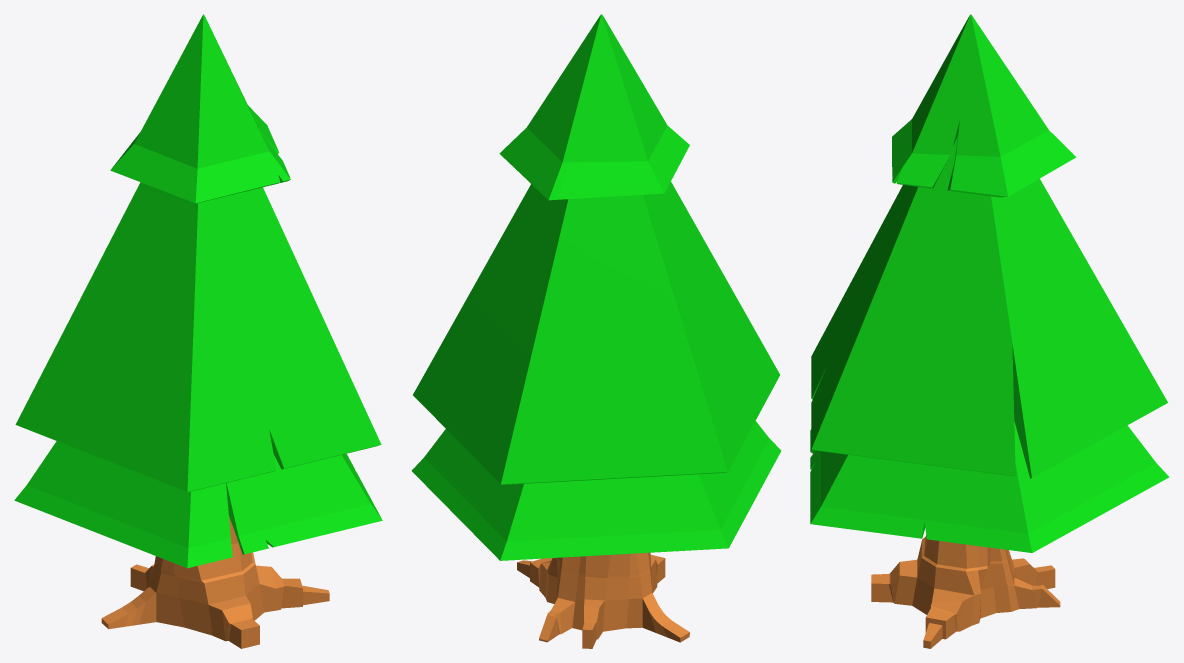
Rendered from Tree.fbx.
3 views of the same model, side by side, from view 1: azimuth 30°, elevation 25°; view 2: azimuth 150°, elevation 25°; view 3: azimuth 270°, elevation 25° (orthographic). The views are drawn at different scales.
Visible parts, largest first — view 1: Tree; view 2: Tree; view 3: Tree.
Boxes of the visible parts, bbox=[...] form: Tree: bbox=[14, 14, 382, 648]; Tree: bbox=[411, 14, 781, 648]; Tree: bbox=[810, 14, 1169, 648].
Size of the model in its own units: 300 by 540 by 300.
